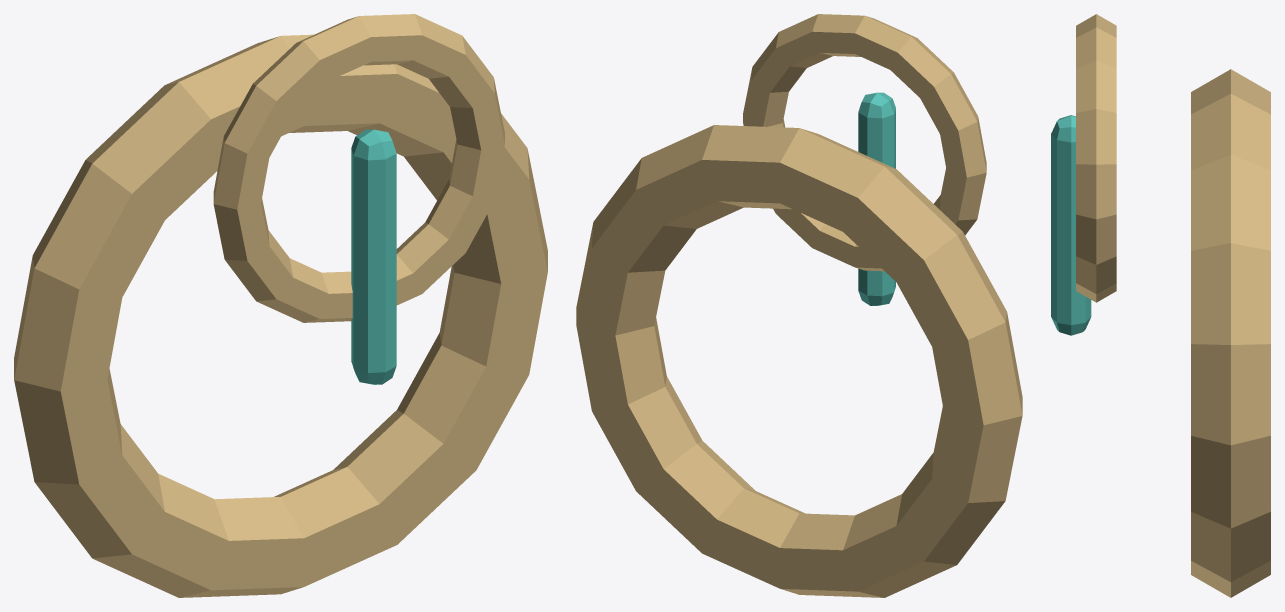
The model's file is arm_anchor_ring.glb.
The picture shows the model from 3 angles, left to right: view 1: azimuth 30°, elevation 25°; view 2: azimuth 150°, elevation 25°; view 3: azimuth 270°, elevation 25°; orthographic projection. The views are drawn at different scales.
Visible parts, largest first — view 1: arm_anchor_ring; view 2: arm_anchor_ring; view 3: arm_anchor_ring.
Boxes of the visible parts, x1,y1,x2,y2 form: arm_anchor_ring: (14,14,547,597); arm_anchor_ring: (576,14,1022,597); arm_anchor_ring: (1051,14,1270,597).
Bounding box in the file's own units: 0.63 × 0.717 × 0.2616.
